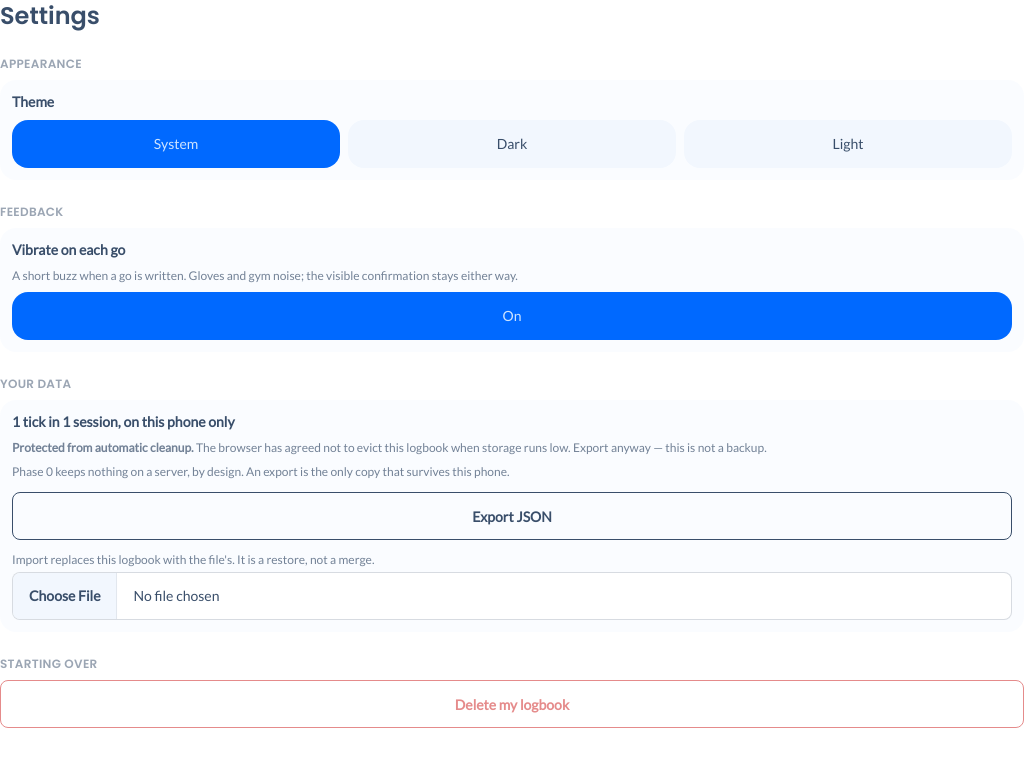
Test: deleting › states what goes and what comes back
The image size is (1024, 768).
Click the button "Delete my logbook": click(512, 704) 0,680 -> 1023,728
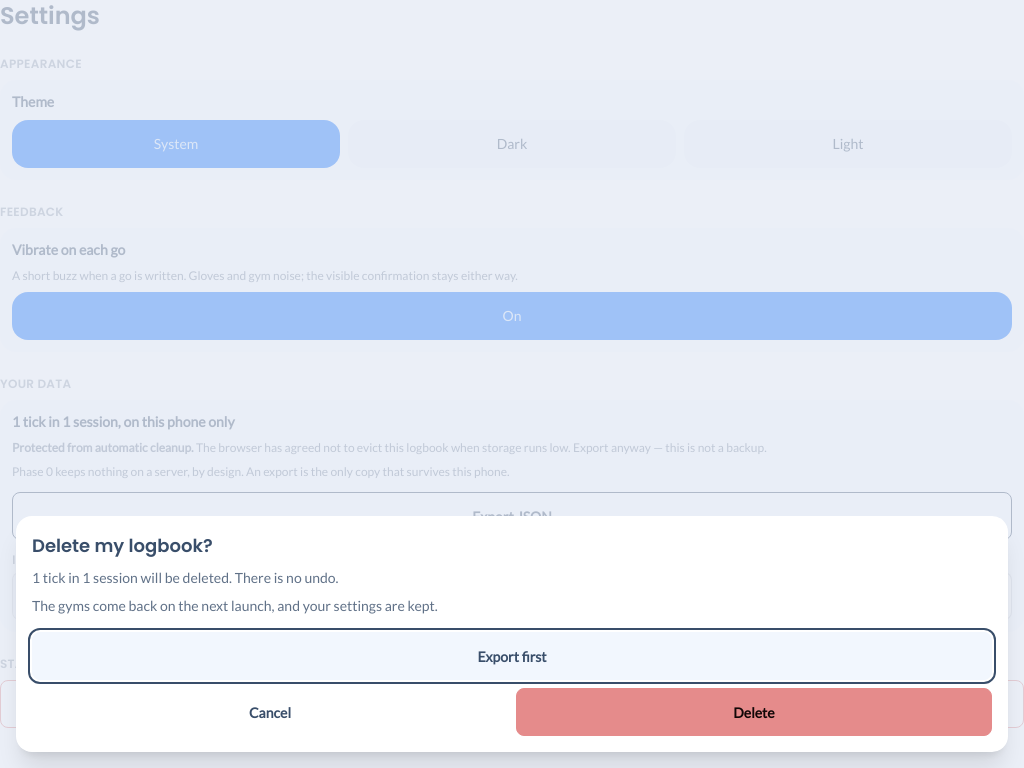
Expected: the dialog shows "1 tick in 1 session will be deleted", 32,569 -> 338,586
Expected: the dialog shows "gyms come back on the next launch", 32,597 -> 438,614
Expected: the dialog shows "settings are kept", 32,597 -> 438,614
